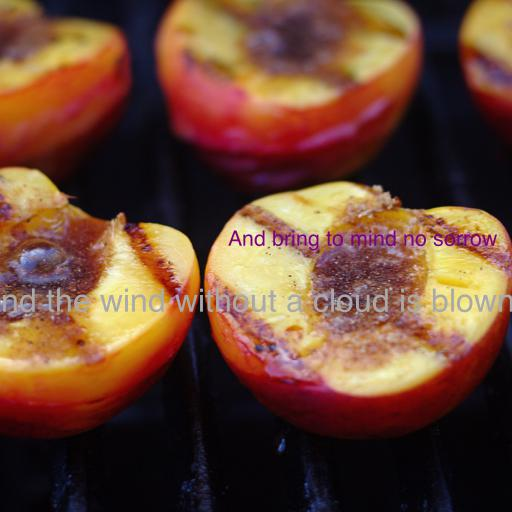Helvetica: (0, 288, 512, 313)
Impact: (227, 230, 497, 251)
